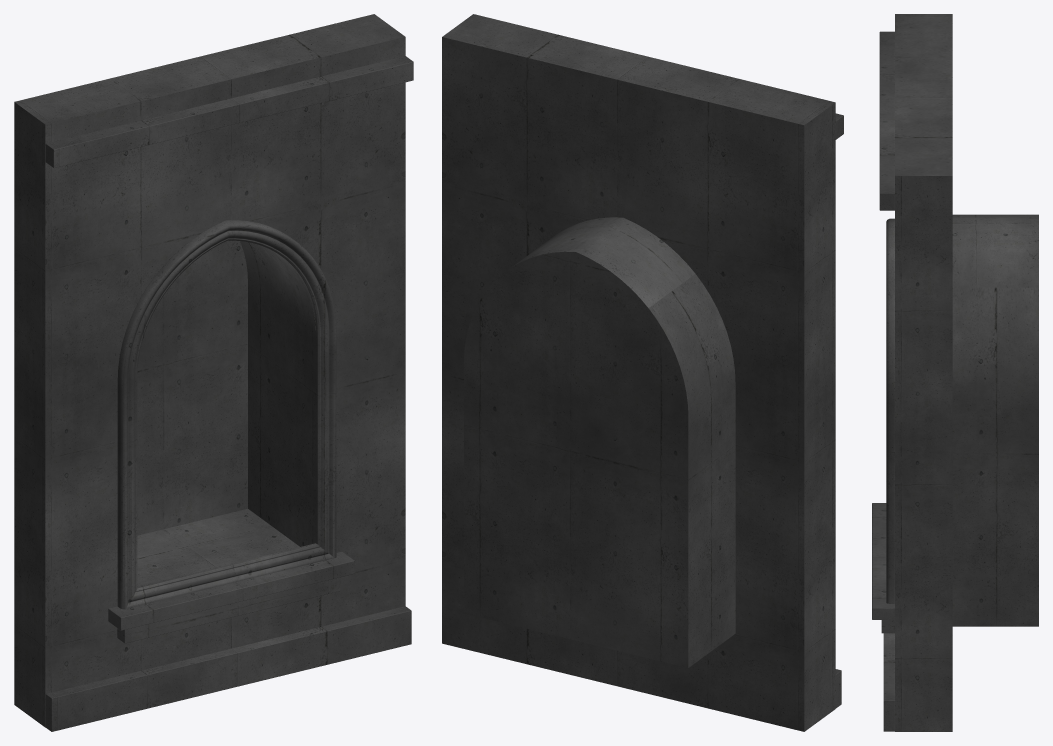
Rendered from Wall_Niche.gltf.
The picture shows the model from 3 angles, left to right: view 1: azimuth 30°, elevation 25°; view 2: azimuth 150°, elevation 25°; view 3: azimuth 270°, elevation 25°; orthographic projection. The views are drawn at different scales.
Visible parts, largest first — view 1: Wall_Niche_Wall, Wall_Niche_Trim; view 2: Wall_Niche_Wall; view 3: Wall_Niche_Wall, Wall_Niche_Trim.
Part boxes in pixels (<box>): Wall_Niche_Wall: <box>14,14,405,727</box>; Wall_Niche_Trim: <box>45,56,413,731</box>; Wall_Niche_Wall: <box>442,14,835,731</box>; Wall_Niche_Wall: <box>895,14,1038,731</box>; Wall_Niche_Trim: <box>872,31,894,731</box>.
Size of what is drawn, in the model's own units: 2 by 3.2 by 0.87.
1 material, 1 textured.
